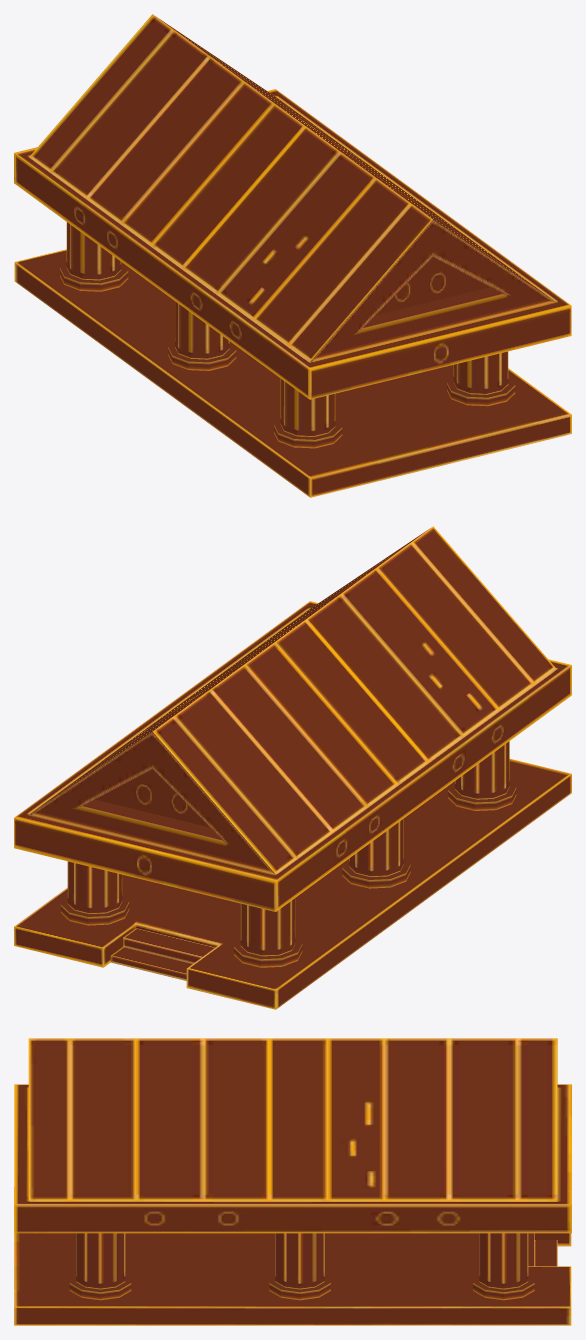
The model's file is RedParthenon.glb.
The picture shows the model from 3 angles, top to bottom: view 1: azimuth 30°, elevation 25°; view 2: azimuth 150°, elevation 25°; view 3: azimuth 270°, elevation 25°; orthographic projection. The views are drawn at different scales.
Parts seen in each view (by area): view 1: RedParthenon_Mesh; view 2: RedParthenon_Mesh; view 3: RedParthenon_Mesh.
Part boxes in pixels (<box>): RedParthenon_Mesh: <box>14,14,571,497</box>; RedParthenon_Mesh: <box>14,526,571,1009</box>; RedParthenon_Mesh: <box>14,1038,571,1325</box>.
Size of the model in its own units: 0.1744 by 0.1533 by 0.3416.
Materials: 1 (1 with a texture image).
